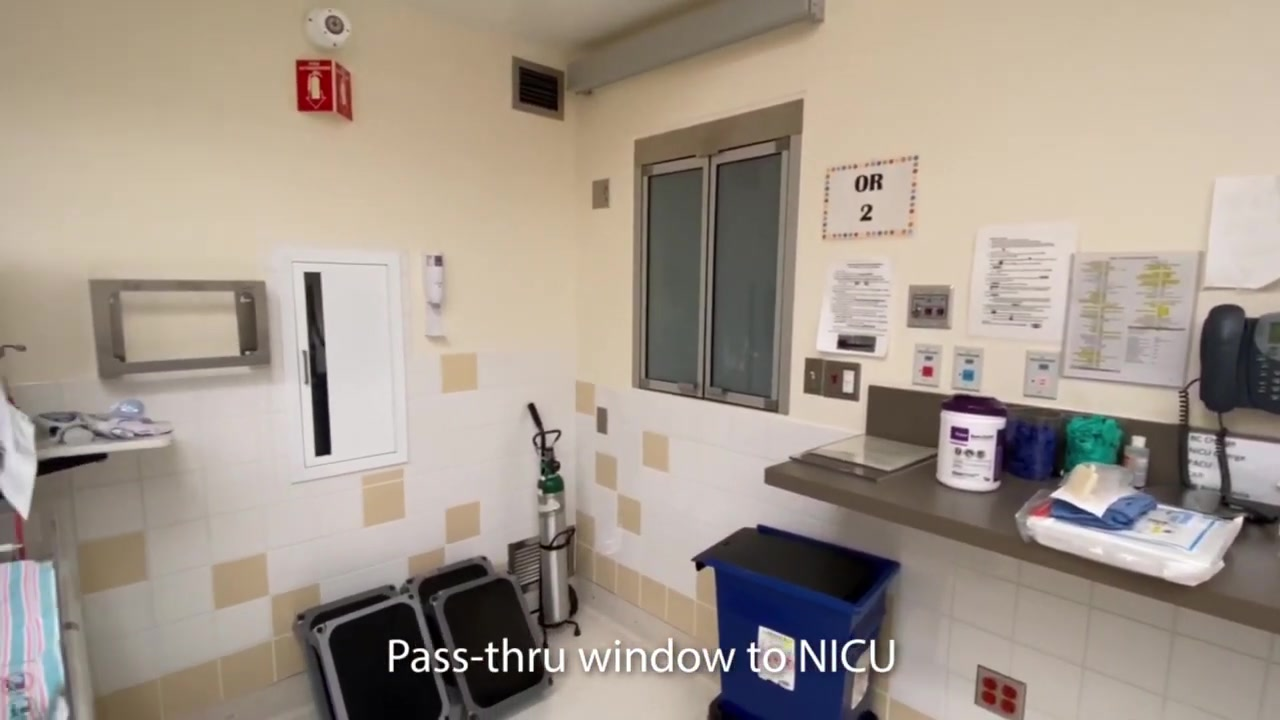countertop: (759, 439, 1280, 628)
dispenser: (421, 249, 451, 341)
handle: (298, 347, 312, 389), (704, 385, 723, 399), (676, 380, 696, 393)
light_switch: (801, 358, 824, 396)
telephone: (1198, 304, 1280, 415)
waste_bin: (693, 519, 905, 720)
